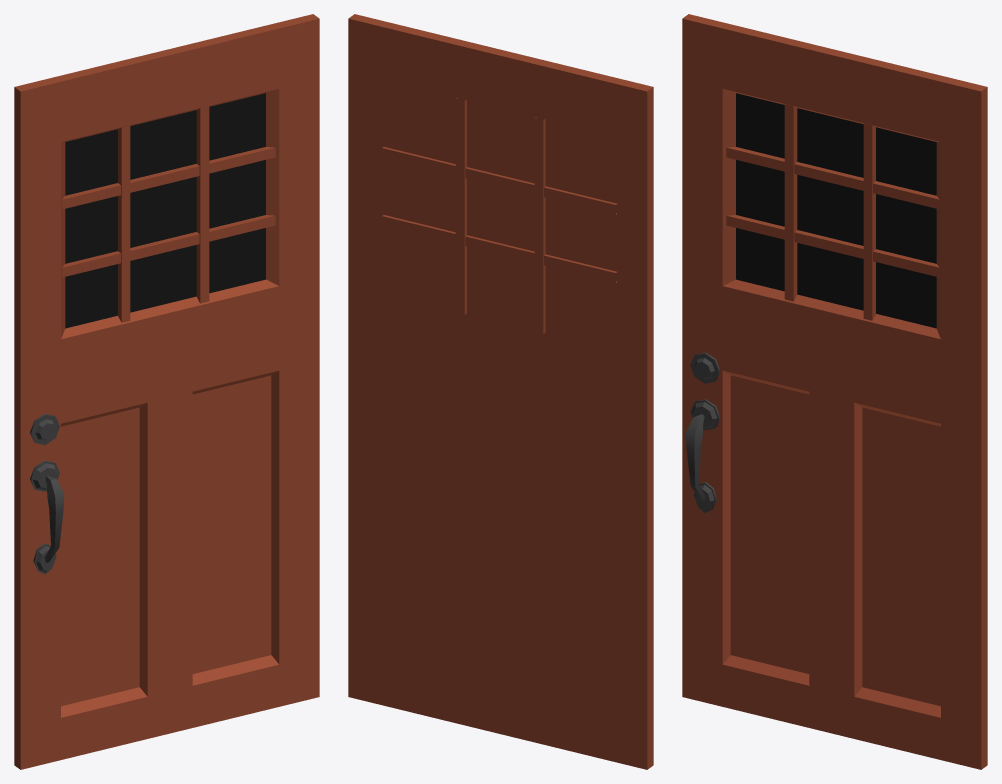
The model's file is SM_door_01.fbx.
3 views of the same model, side by side, from view 1: azimuth 30°, elevation 25°; view 2: azimuth 150°, elevation 25°; view 3: azimuth 330°, elevation 25° (orthographic).
Visible parts, largest first — view 1: Box045; view 2: Box045; view 3: Box045.
Part boxes in pixels (bbox=[...]): Box045: bbox=[14, 14, 319, 769]; Box045: bbox=[348, 14, 653, 769]; Box045: bbox=[682, 14, 987, 769].
Size of the model in its own units: 38.13 by 82.68 by 5.31.
